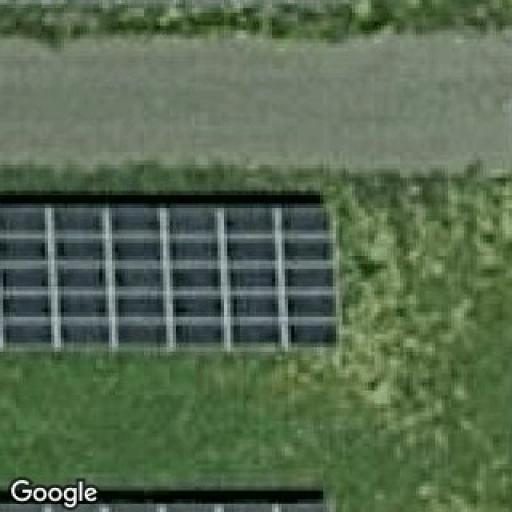solar-panel: (0, 202, 333, 350), (0, 496, 339, 512)
